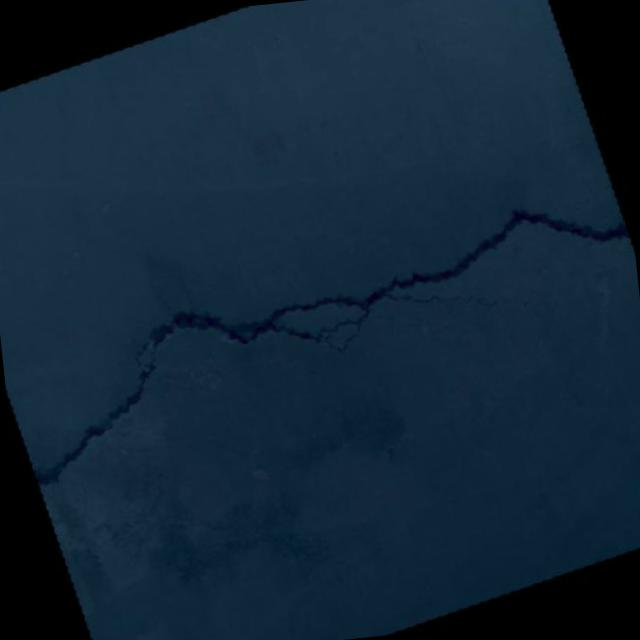crack: (0, 163, 640, 492)
